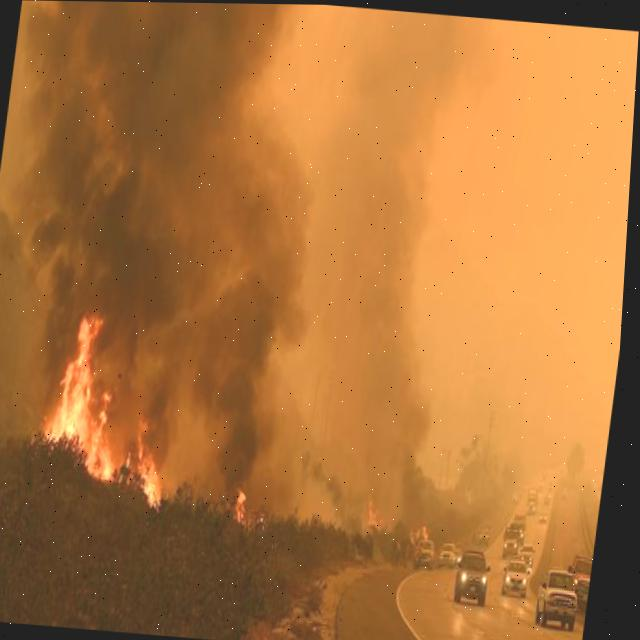fire: (42, 312, 172, 514)
smoke: (16, 0, 314, 523), (411, 17, 639, 508), (300, 5, 501, 529)
